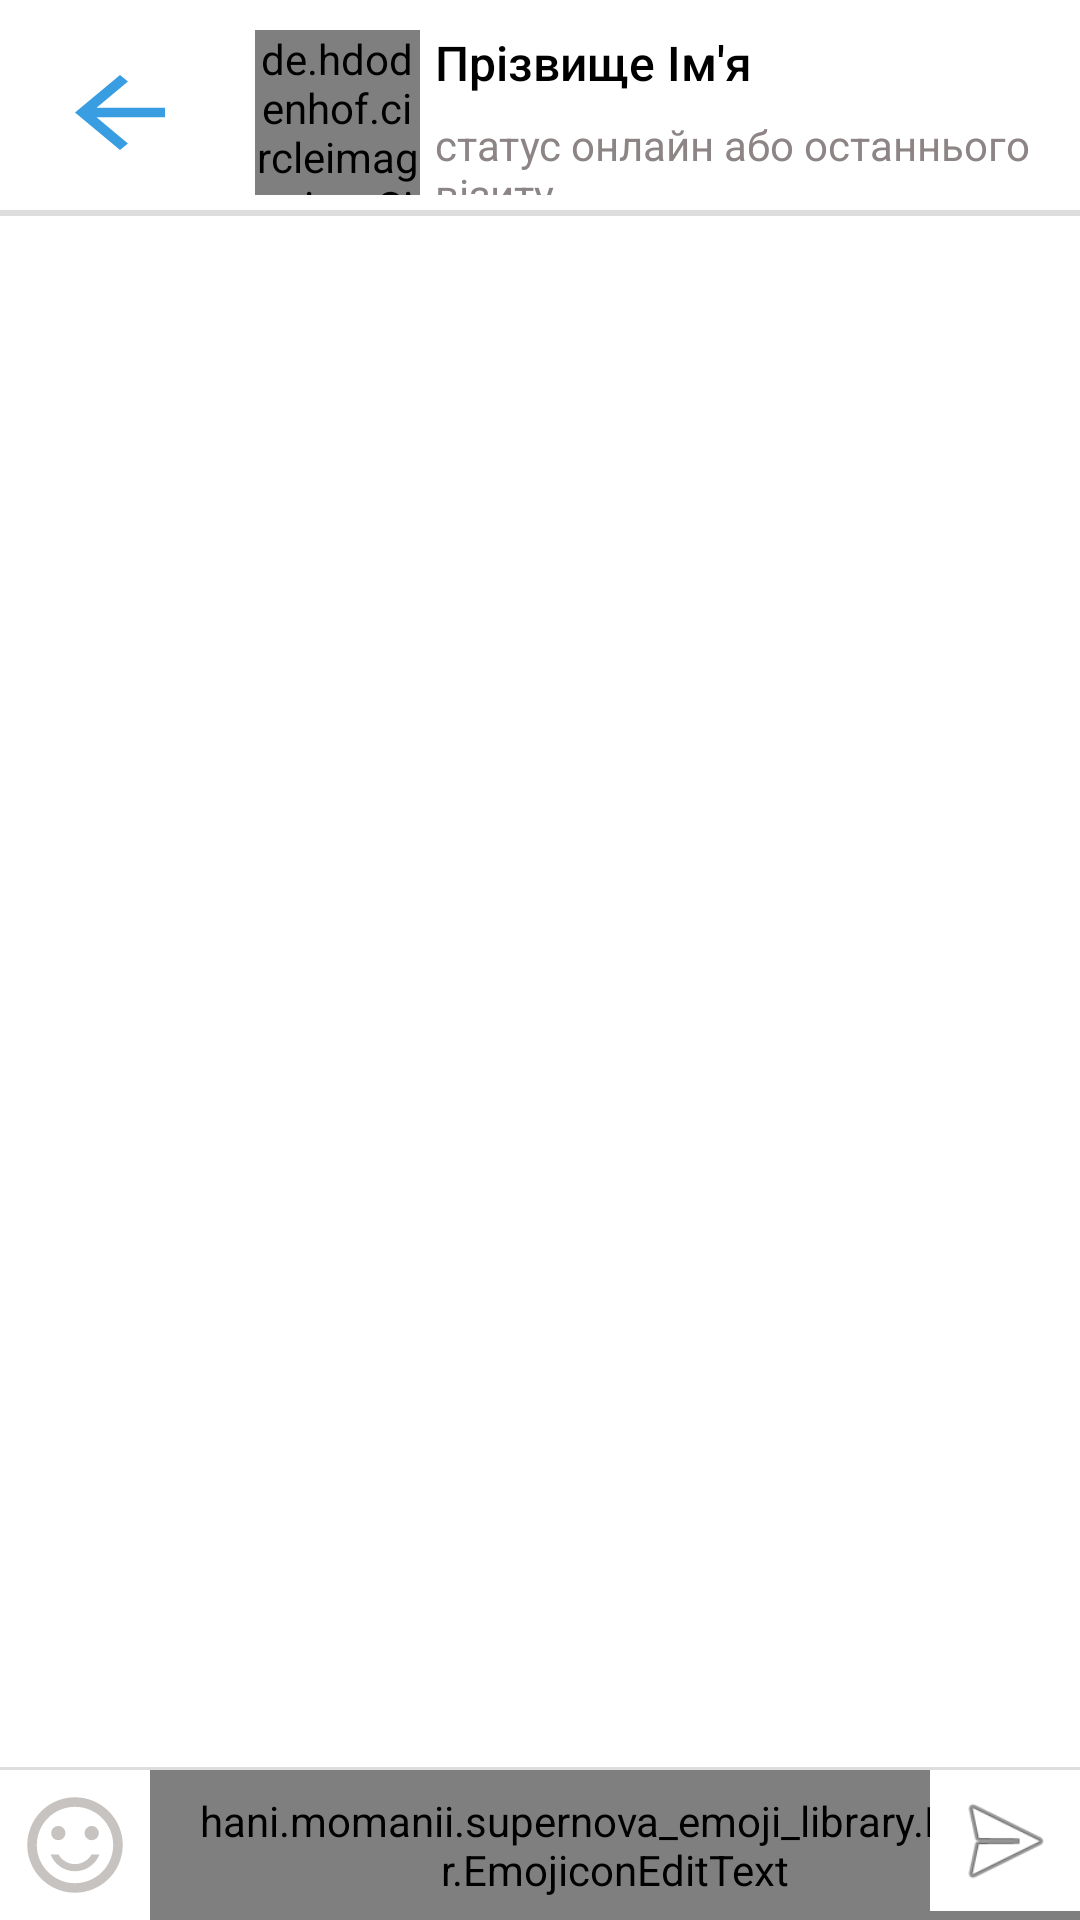

Named icons in this screenshot (1080w x 1920h) and their centers, point (x, y):
arrow back: point (120, 112)
send: point (1005, 1840)
smileemodji: point (75, 1845)
